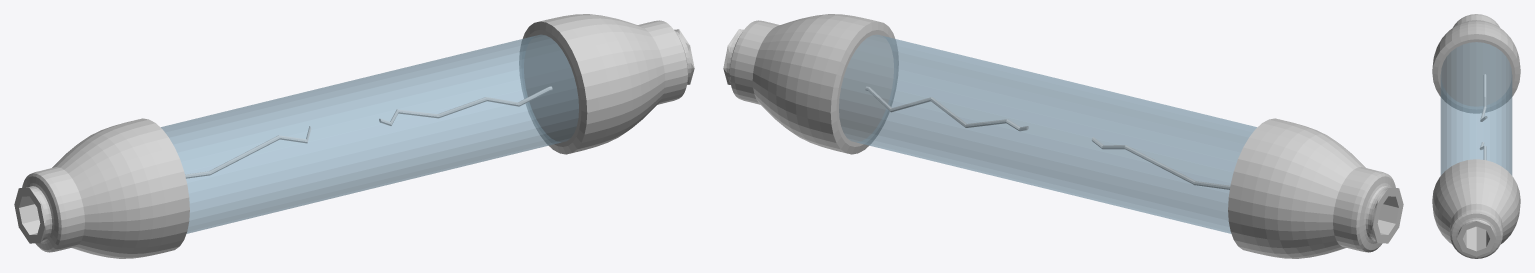
Rendered from fuse-broken.fbx.
3 views of the same model, side by side, from view 1: azimuth 30°, elevation 25°; view 2: azimuth 150°, elevation 25°; view 3: azimuth 270°, elevation 25° (orthographic). The views are drawn at different scales.
Parts seen in each view (by area): view 1: fuse_body.001, fuse_body, fuse_body.002; view 2: fuse_body.001, fuse_body, fuse_body.002; view 3: fuse_body, fuse_body.001, fuse_body.002.
Part boxes in pixels (box(x1,y1,x2,y2)): fuse_body.001: box(161, 35, 578, 233); fuse_body: box(14, 14, 694, 258); fuse_body.002: box(185, 86, 552, 178); fuse_body.001: box(839, 35, 1256, 233); fuse_body: box(723, 14, 1403, 258); fuse_body.002: box(865, 86, 1230, 189); fuse_body: box(1432, 14, 1520, 258); fuse_body.001: box(1440, 42, 1512, 175); fuse_body.002: box(1480, 74, 1487, 159).
Bounding box in the file's own units: 140 × 25.44 × 25.44.
